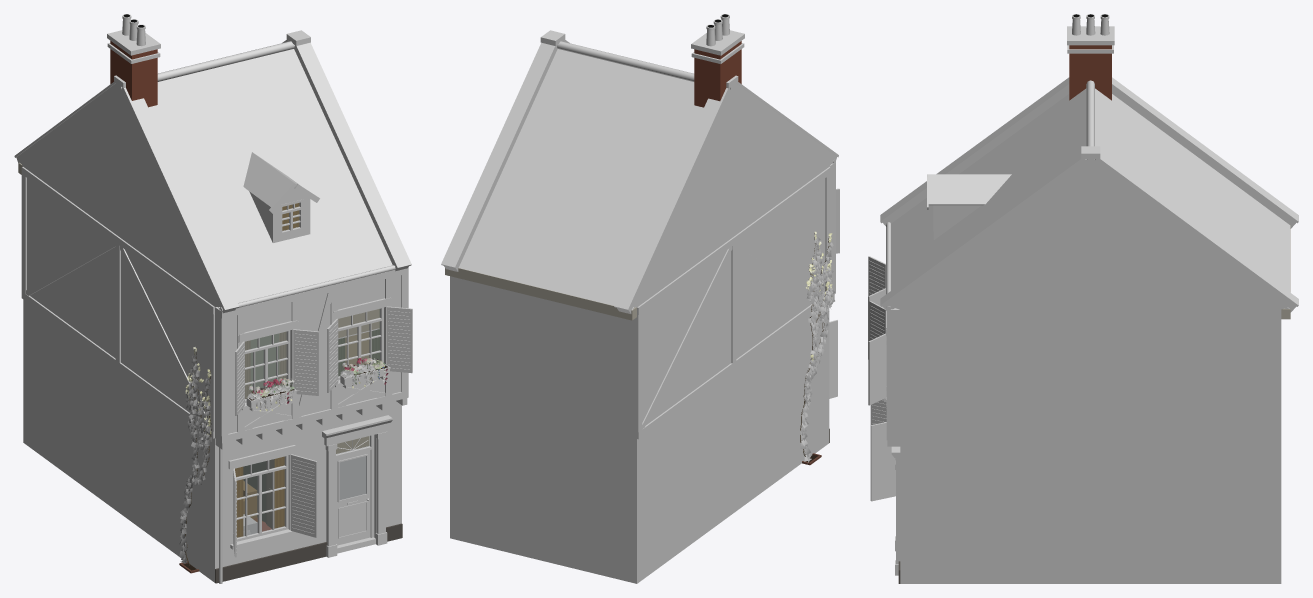
The model's file is Opposite_Opposite2_4.glb.
3 views of the same model, side by side, from view 1: azimuth 30°, elevation 25°; view 2: azimuth 150°, elevation 25°; view 3: azimuth 270°, elevation 25° (orthographic).
Parts seen in each view (by area): view 1: Opposite_Opposite2_4; view 2: Opposite_Opposite2_4; view 3: Opposite_Opposite2_4.
Part boxes in pixels (x1,y1,x2,y2): Opposite_Opposite2_4: (14, 14, 412, 583); Opposite_Opposite2_4: (441, 14, 839, 583); Opposite_Opposite2_4: (868, 14, 1298, 583).
Bounding box in the file's own units: 4.71 × 11.23 × 9.04.
